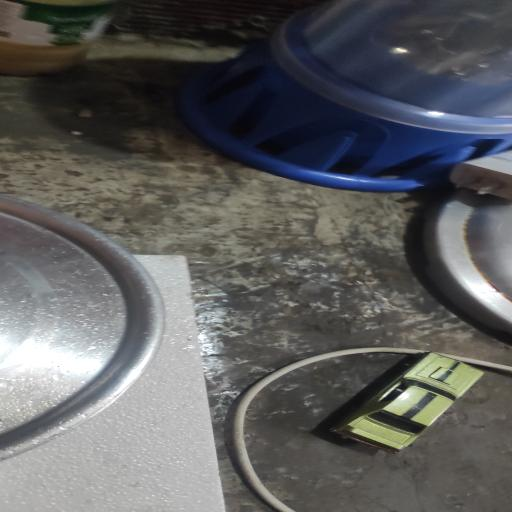Carrito: (331, 353, 483, 453)
